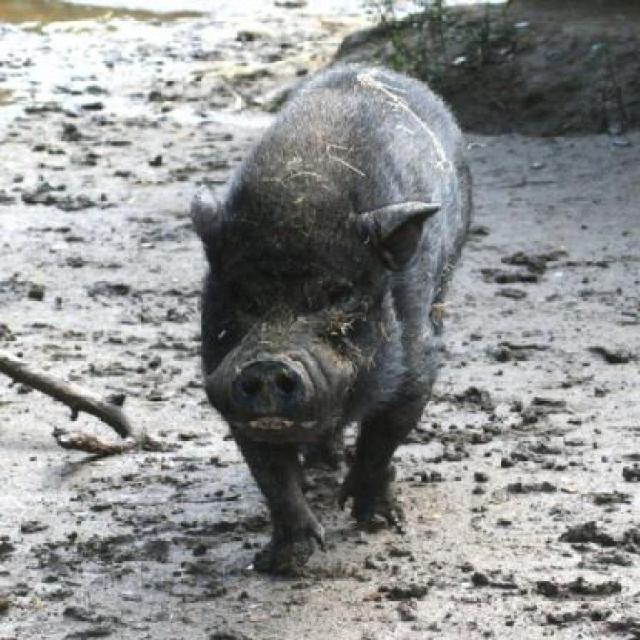pig: (190, 58, 476, 574)
